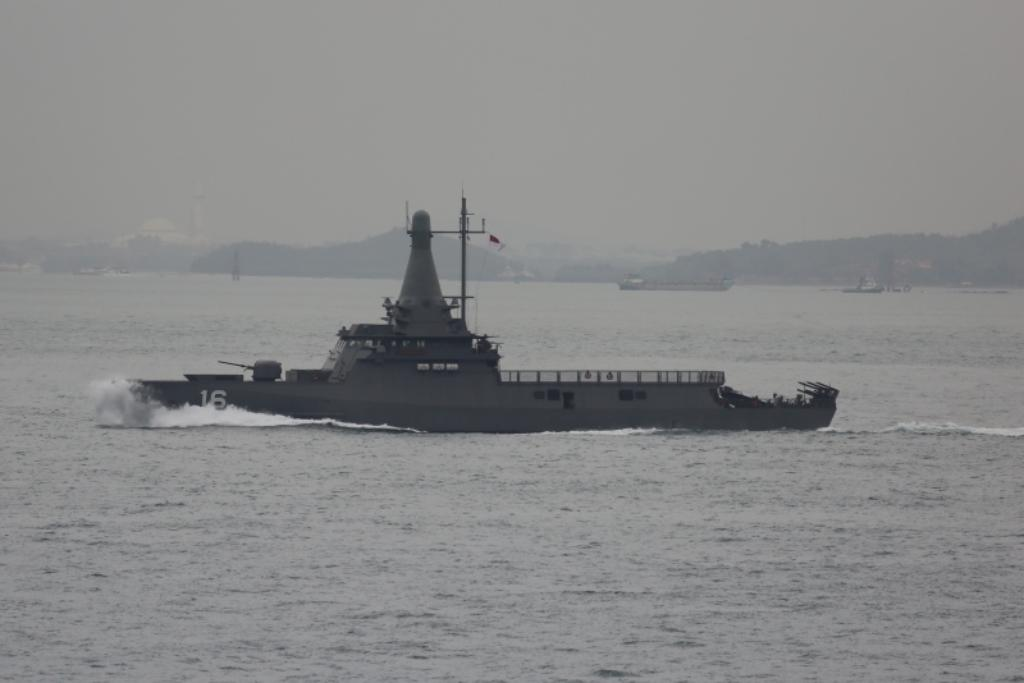Warship: (118, 186, 844, 432)
